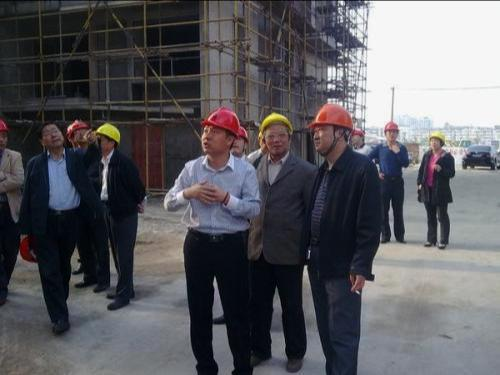no_helmet: (36, 120, 65, 157)
